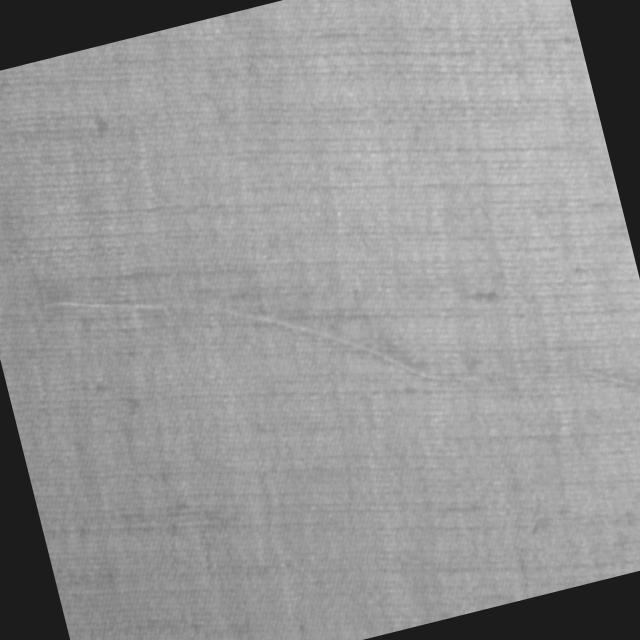objects: (36, 153, 640, 540)
